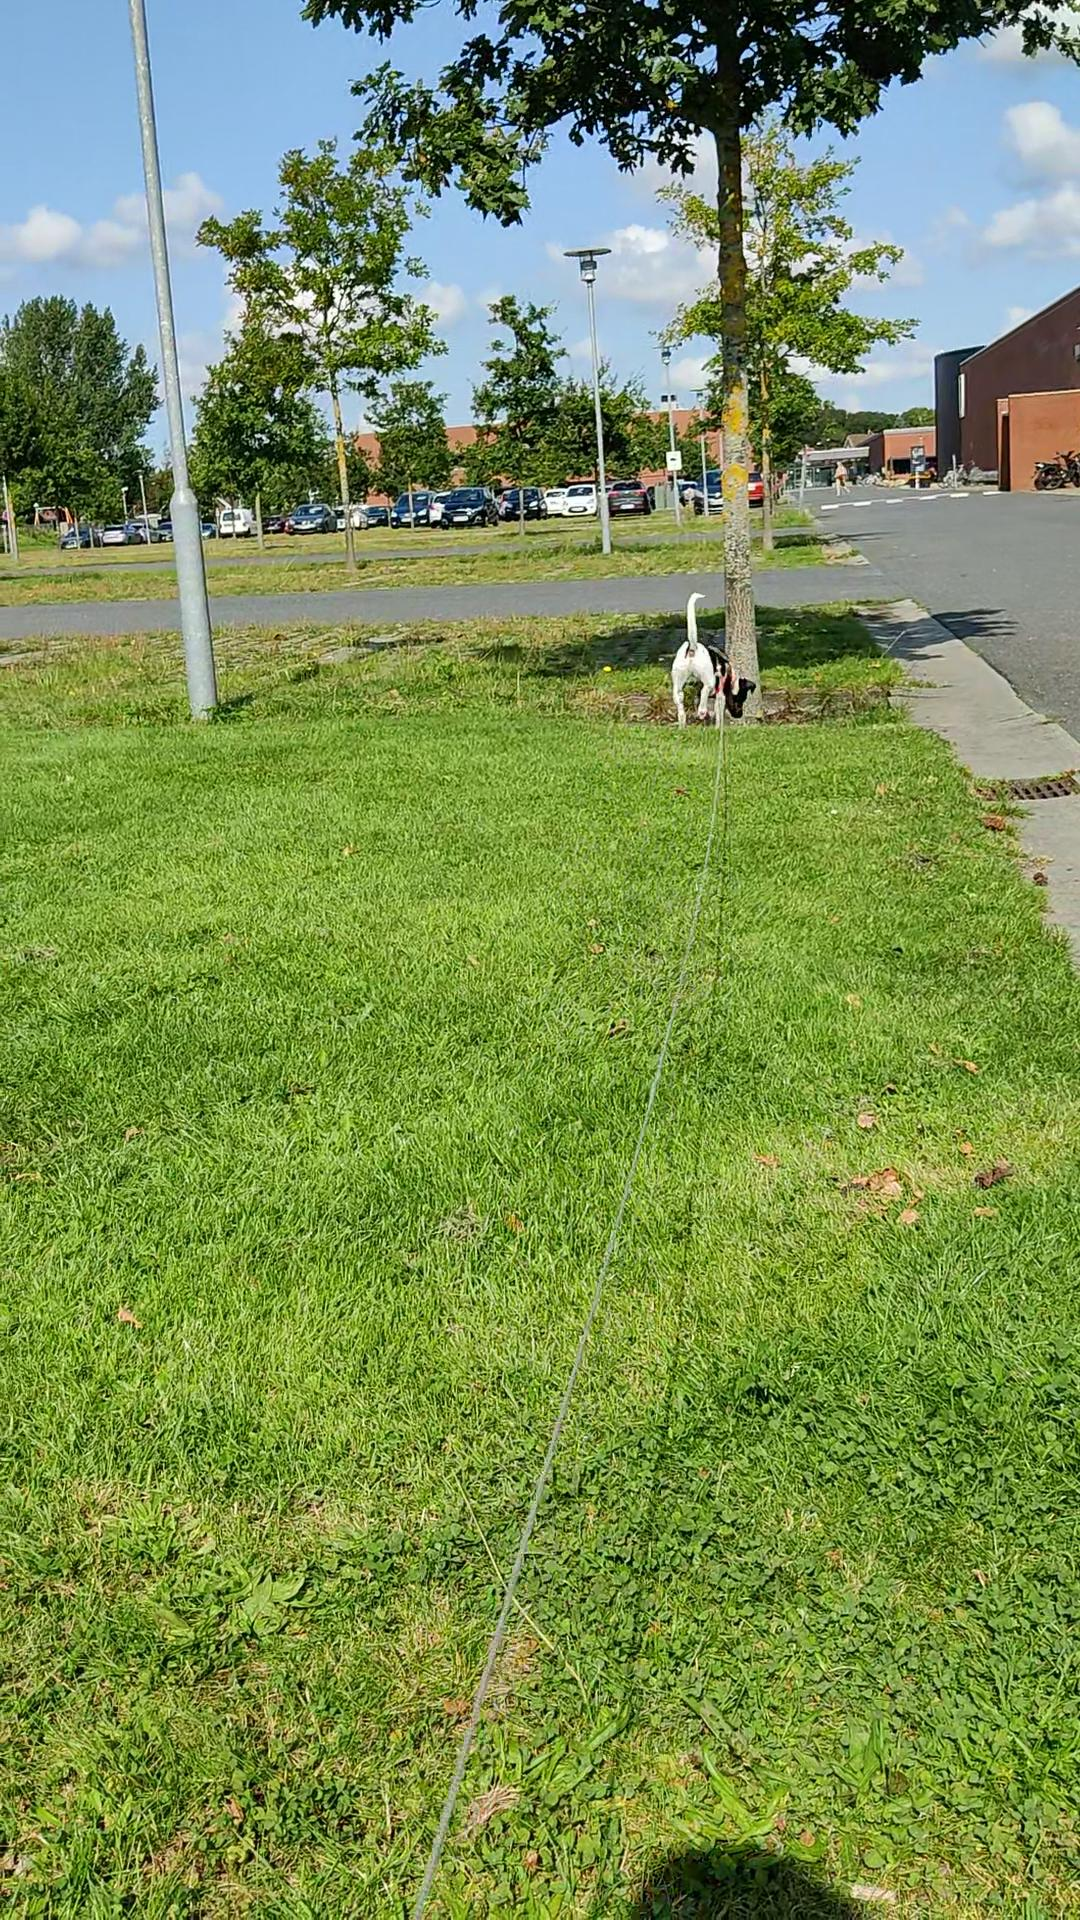Dog: (658, 587, 757, 728)
